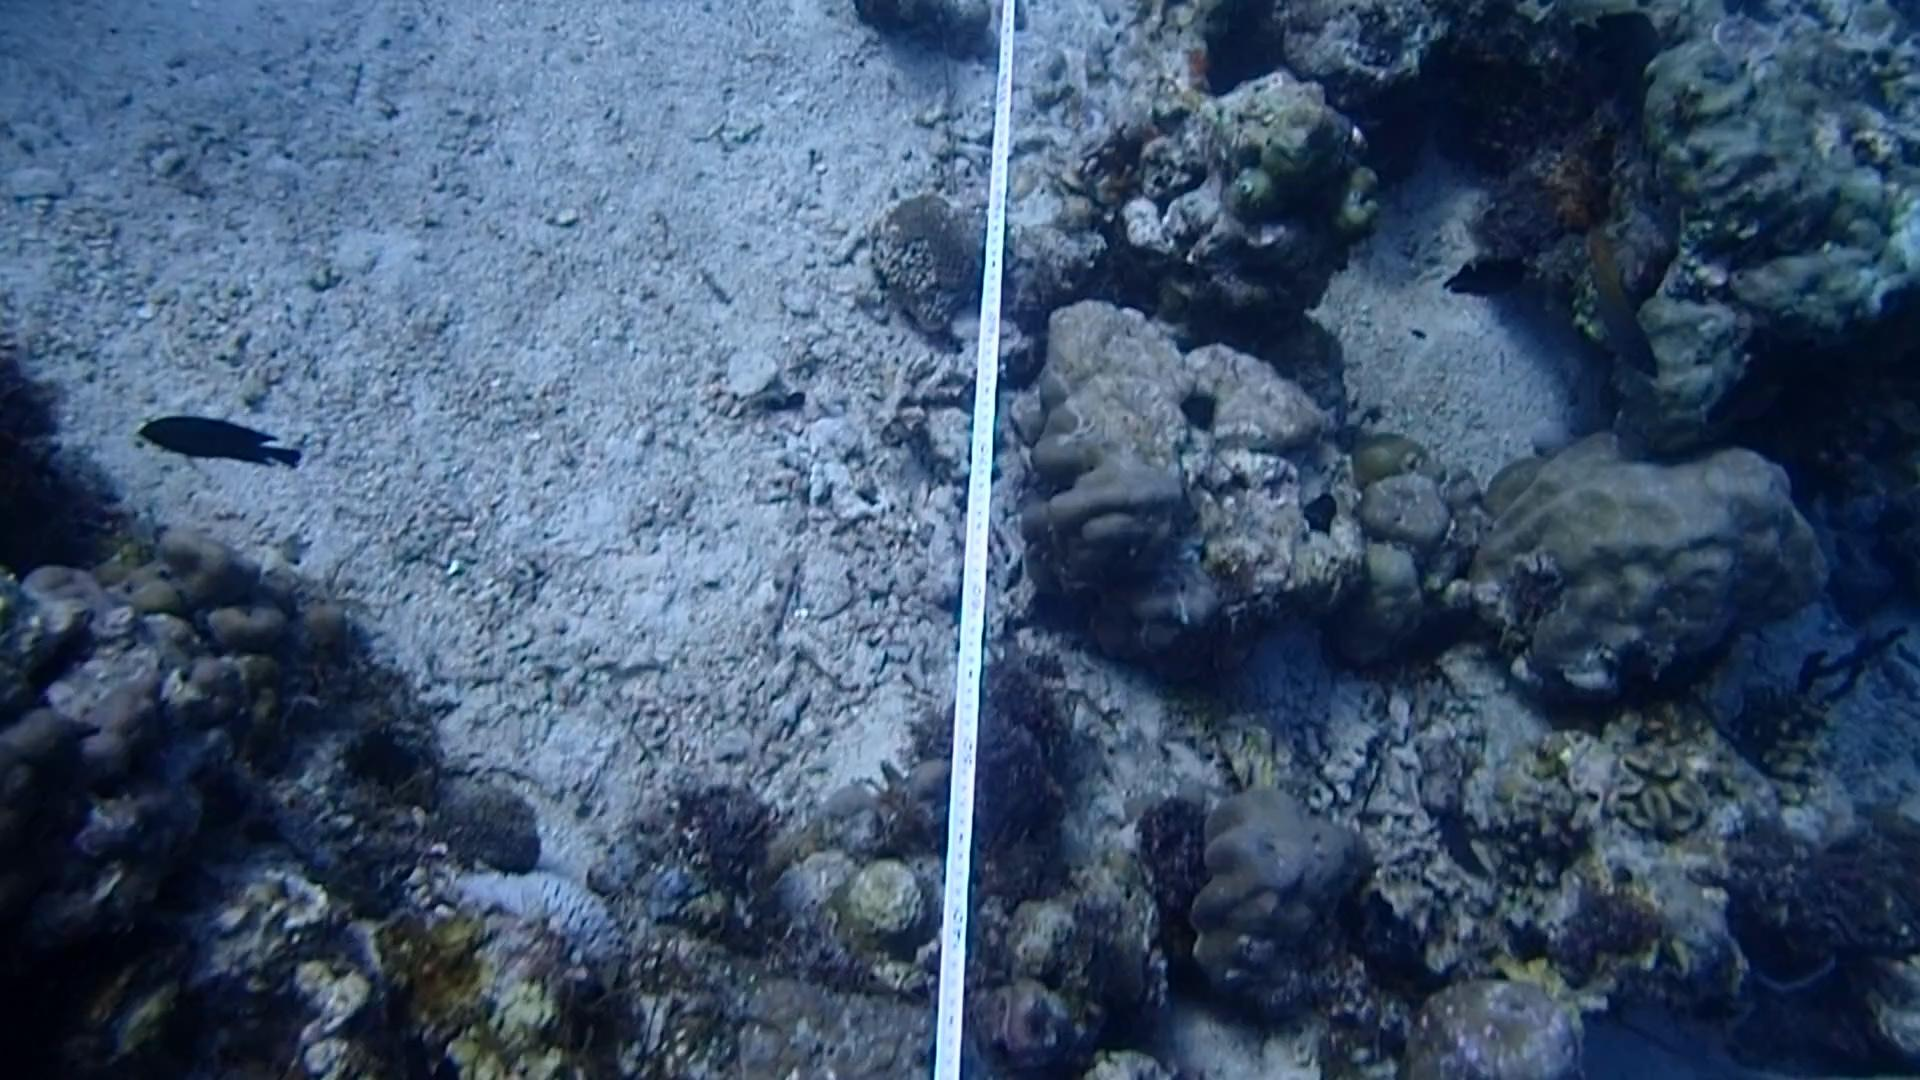Dark Fish: (119, 398, 303, 491), (1429, 235, 1530, 320)
Half Blue - Half Yellow: (1572, 224, 1675, 384)
